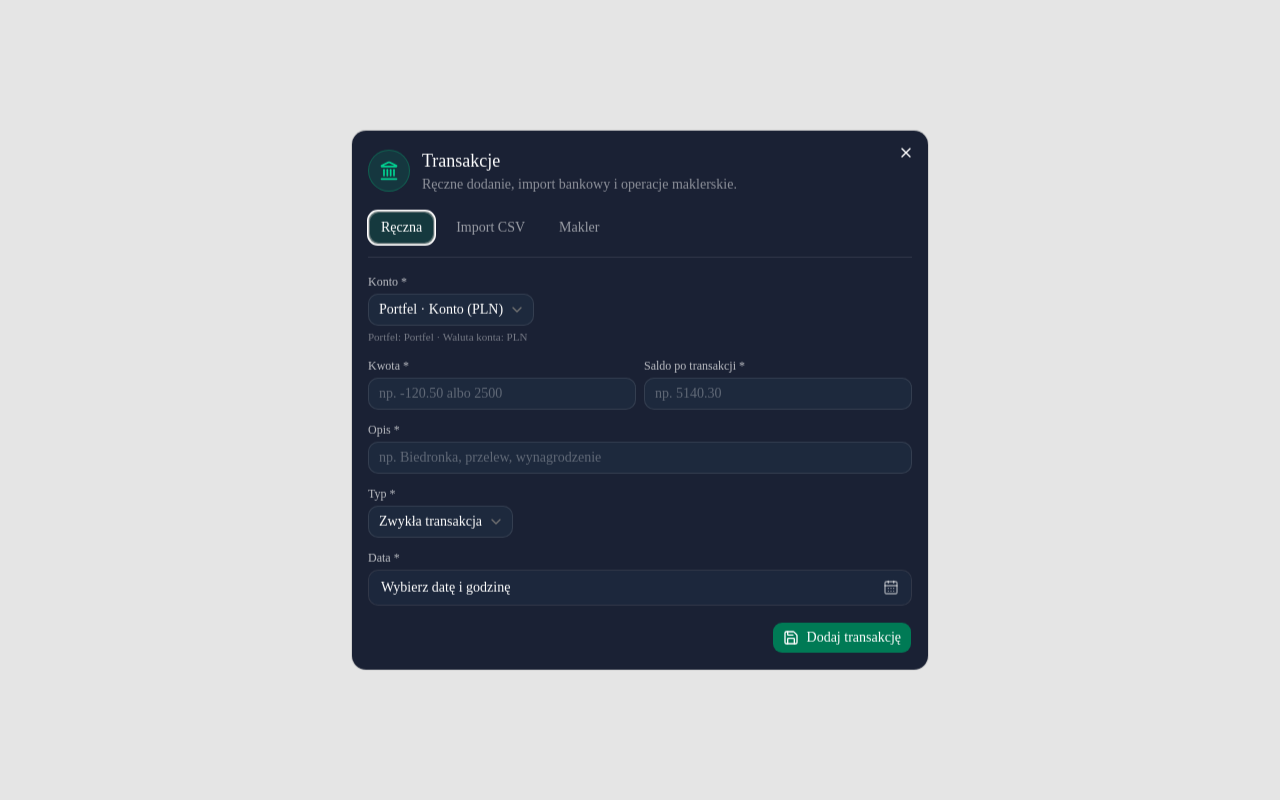
Test: TransactionsDialog import preview › sets the file input accept attribute to .pdf when a PDF parser is selected
What coordinates should you click on to do the following:
click the button "Import CSV"
I would click on:
 (491, 228)
Its box is [443,211,538,245].
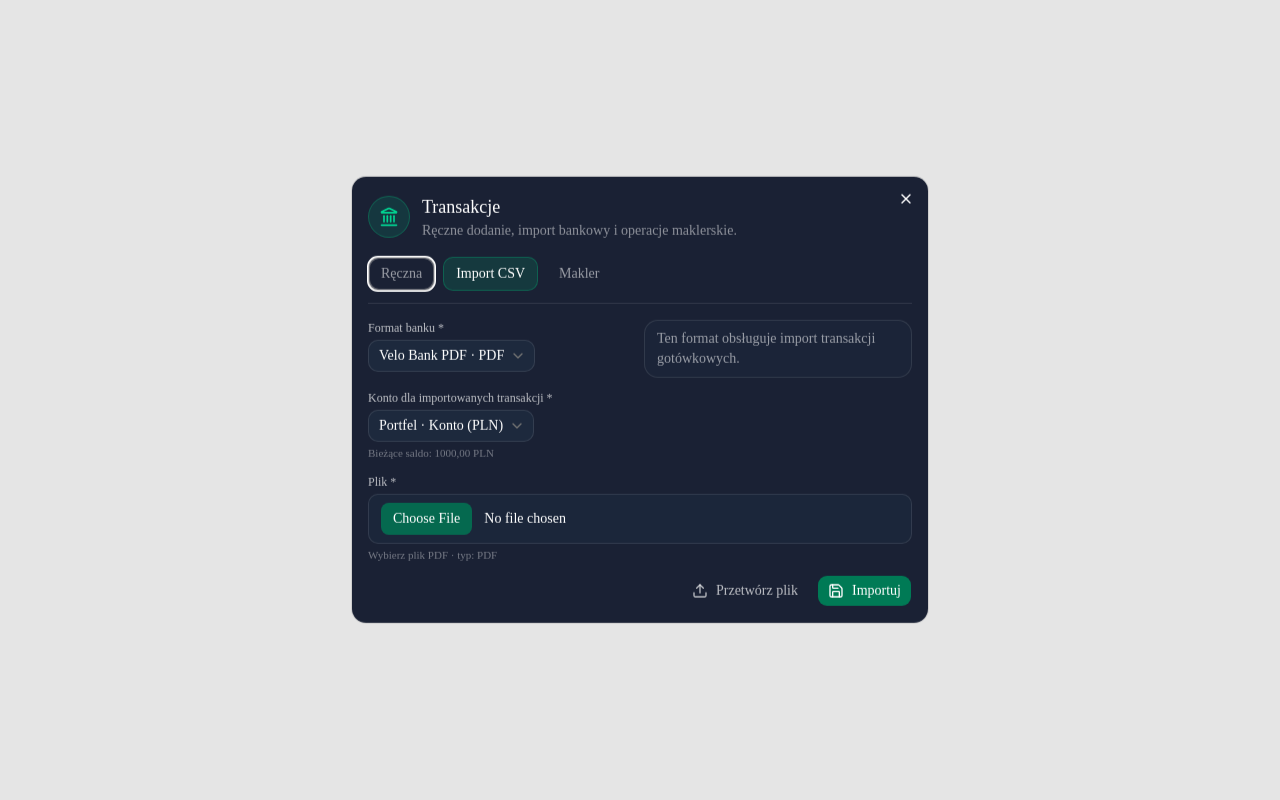
Check: the text "Ten format obsługuje import transakcji gotówkowych." is shown, box [644,320,912,378]
